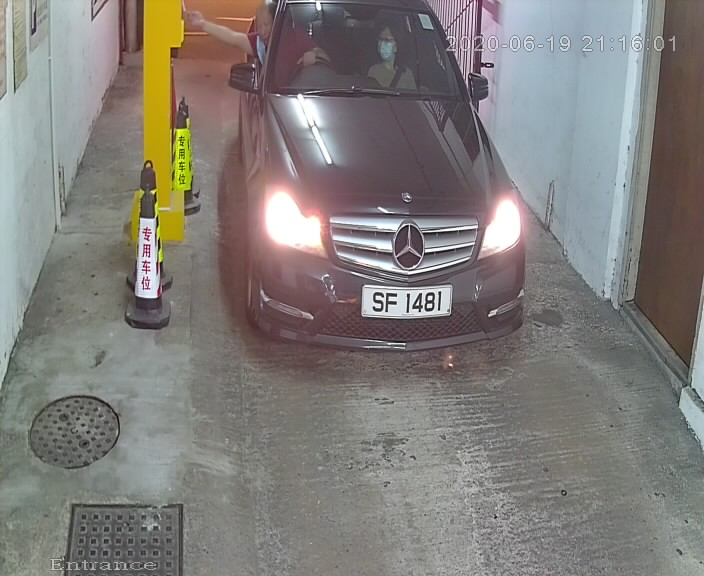privatecar: (209, 3, 540, 367)
